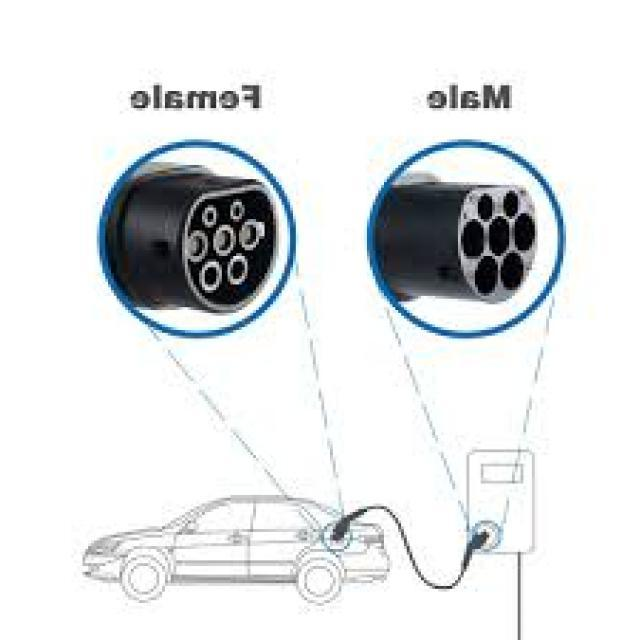Type 2: (132, 130, 308, 330)
